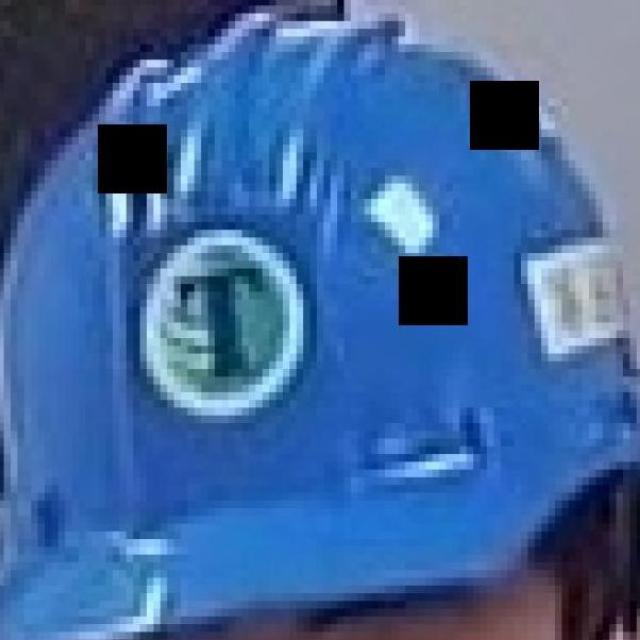blue helmet: (10, 20, 633, 611)
